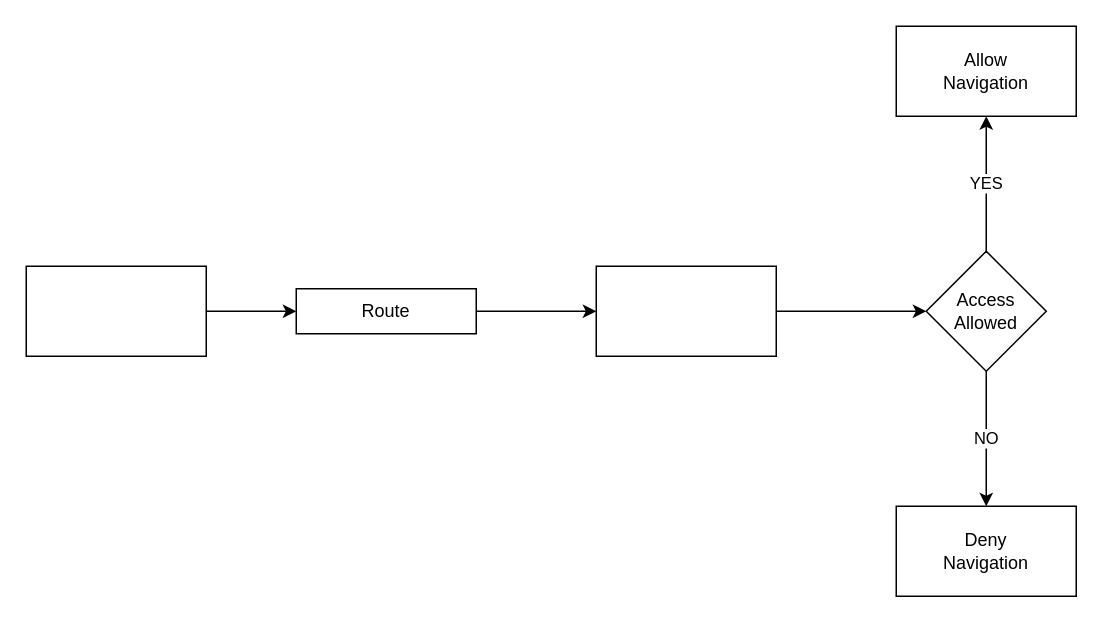
The diagram is 1103 pixels wide and 623 high, and some of its shapes have lost their labels. The centre of each missing label's shape, as x and y in pixels:
"Route Guaard" goes at point 685,310.
"URL Request" goes at point 115,310.
